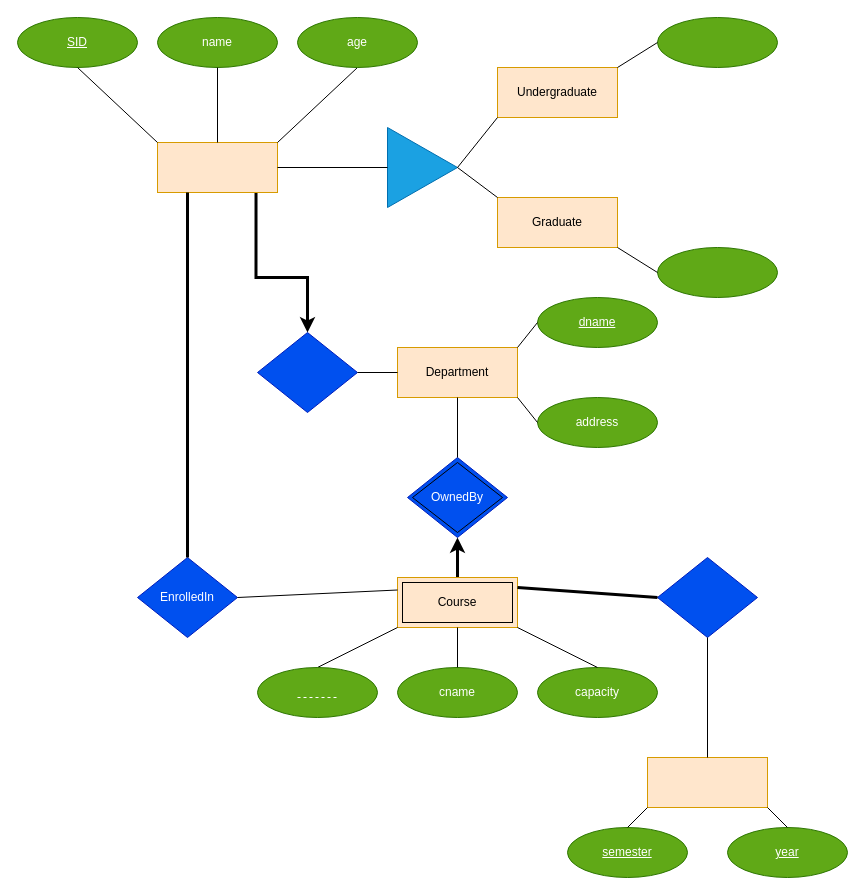
Some shapes in this 865 by 895 pixel diagram are drawn without their labels. Each missing label, with the centre of its shape:
"AffiliatedWith" belongs at [307,372].
"concentration" belongs at [717,42].
"InLevel" belongs at [422,167].
"number" belongs at [317,692].
"OfferedIn" belongs at [707,597].
"researchField" belongs at [717,272].
"Students" belongs at [217,167].
"Term" belongs at [707,782].
